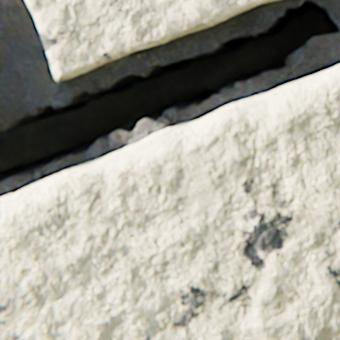brick: (27, 0, 277, 81)
broken_brick: (0, 63, 339, 339)
crack: (0, 0, 339, 183)
